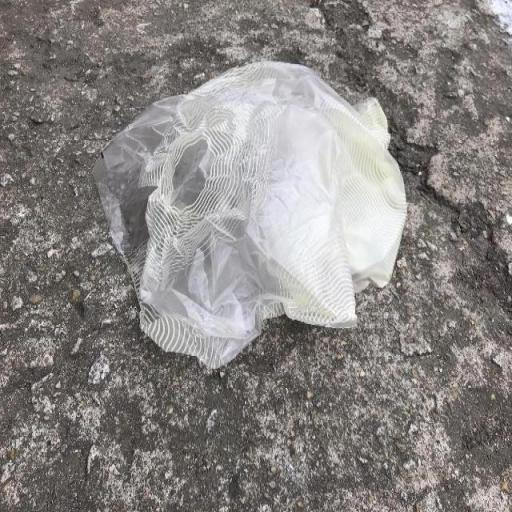plastic-bag: (89, 58, 410, 373)
